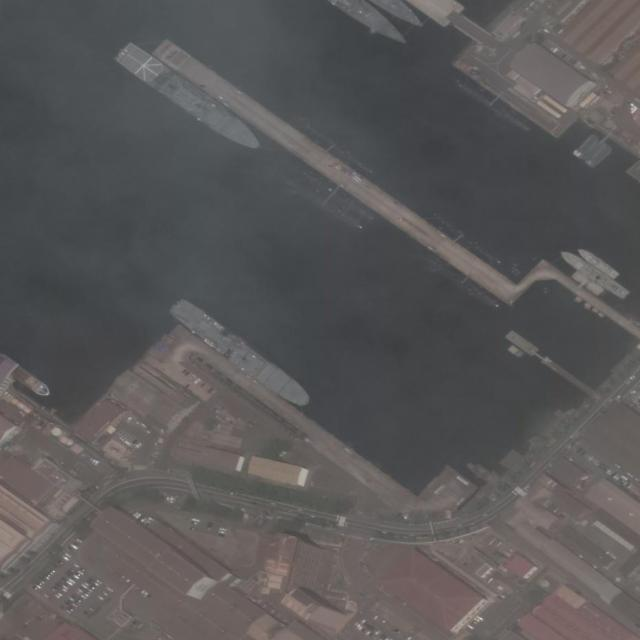Auxiliary Ships: (114, 39, 266, 157)
Dock: (152, 35, 521, 305), (534, 259, 637, 336), (504, 330, 591, 394)
Other Warship: (166, 293, 316, 413), (558, 246, 630, 301), (575, 245, 620, 281)
Submarine: (297, 165, 376, 223), (423, 253, 501, 309), (285, 178, 366, 231), (298, 121, 375, 176), (428, 209, 502, 266), (456, 80, 531, 134)
